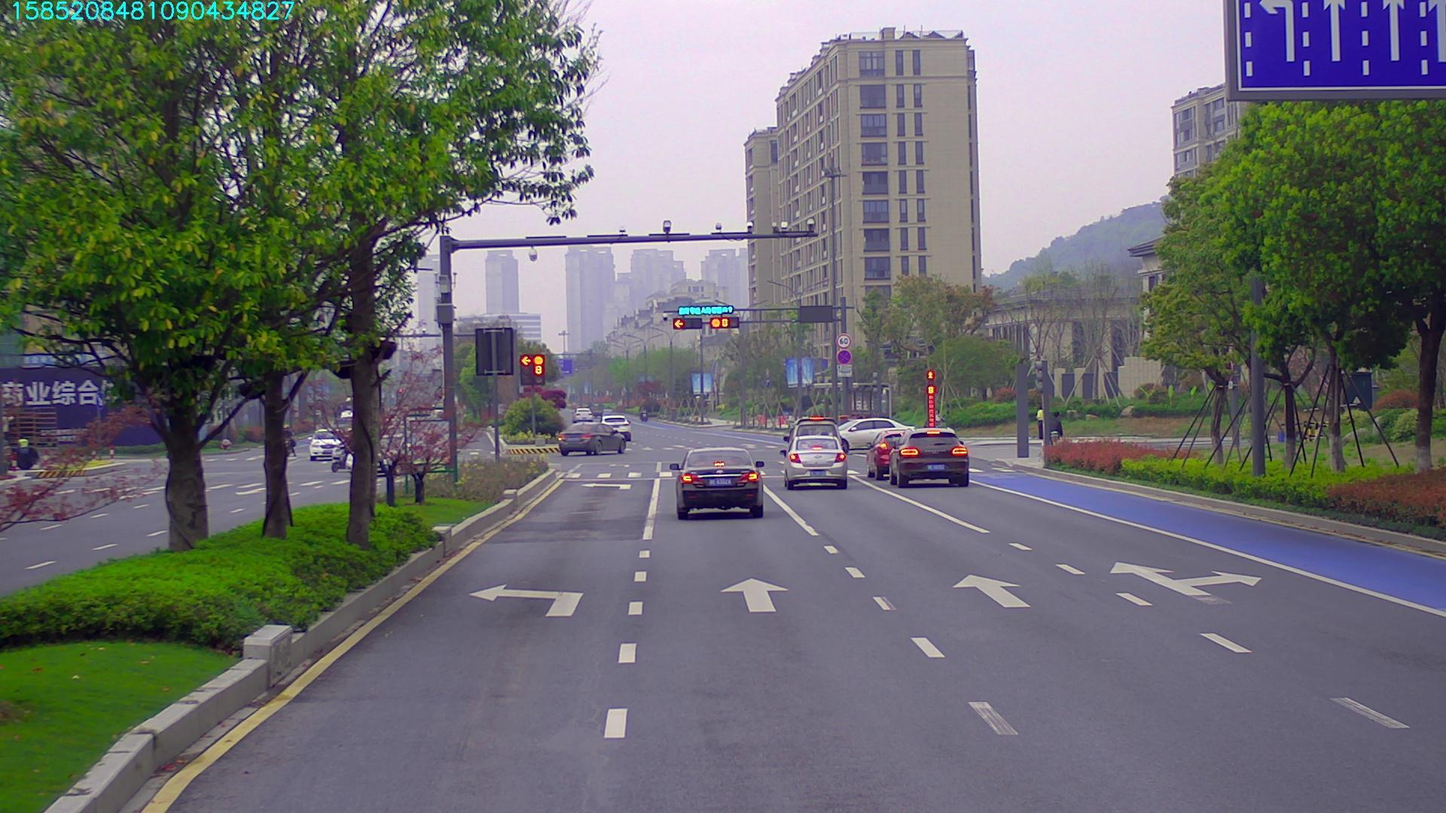red: (706, 311, 736, 325), (676, 318, 700, 328)
wait_on: (678, 304, 728, 315)
